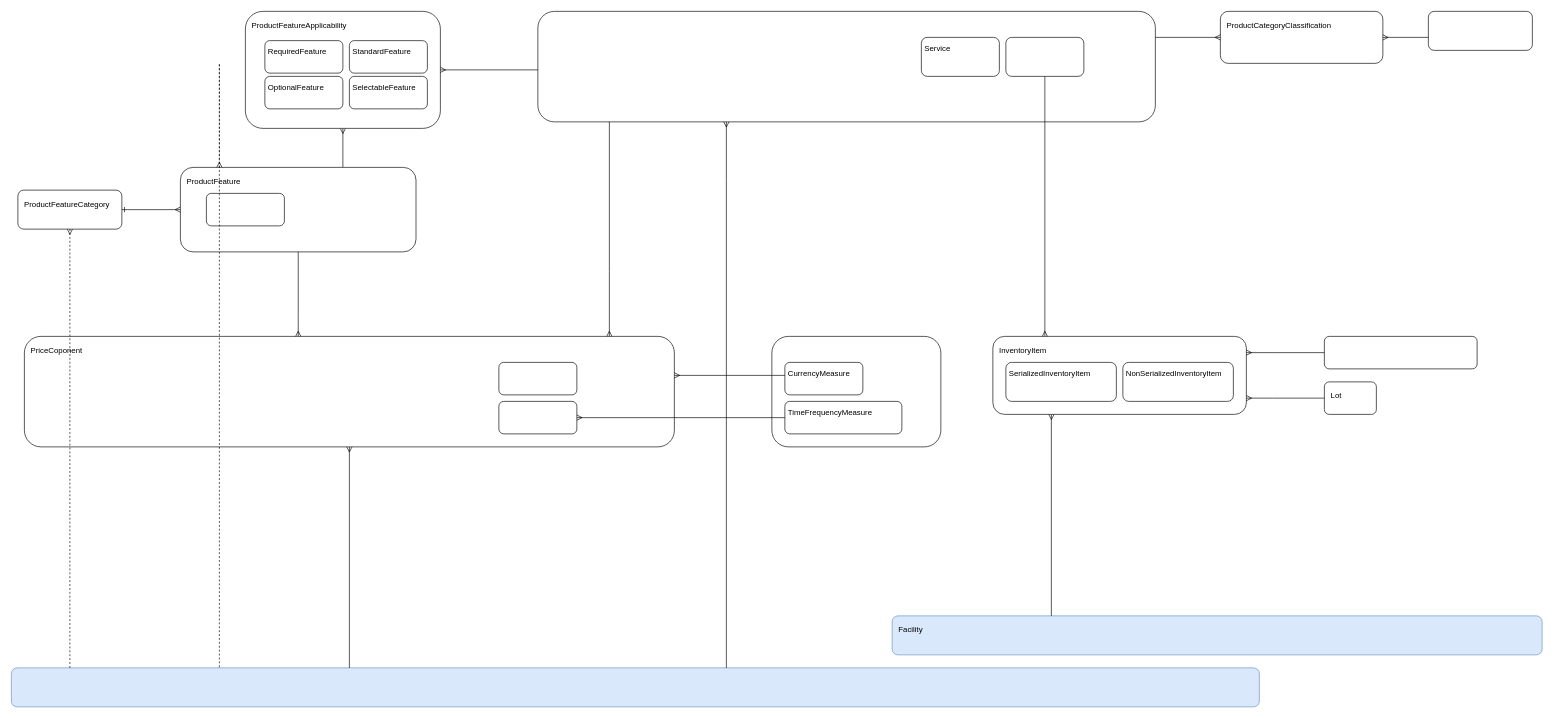
Image size: 1554x718. Some labels were removed from this diagram. Each missing label, with the box of its shape:
BasePrice: (498, 362, 577, 395)
Good: (1005, 37, 1084, 76)
InventoryItemStatusType: (1324, 336, 1477, 369)
Organization: (11, 667, 1259, 707)
Product: (537, 11, 1155, 122)
ProductCategory: (1428, 11, 1532, 50)
RecurringCharge: (498, 401, 577, 434)
ServiceFeature: (206, 193, 284, 226)
UnitOfMeasure: (771, 336, 941, 447)
